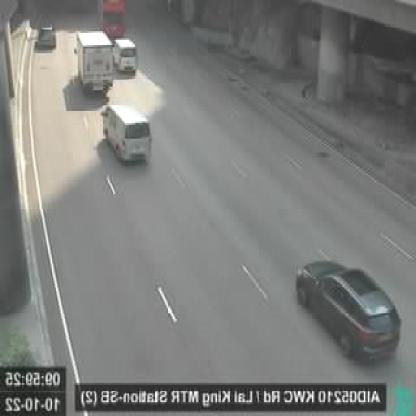Bus: (97, 0, 126, 36)
Car: (296, 259, 399, 369), (103, 102, 151, 166), (112, 33, 137, 71), (36, 26, 55, 50)
Truck: (75, 27, 111, 95)
